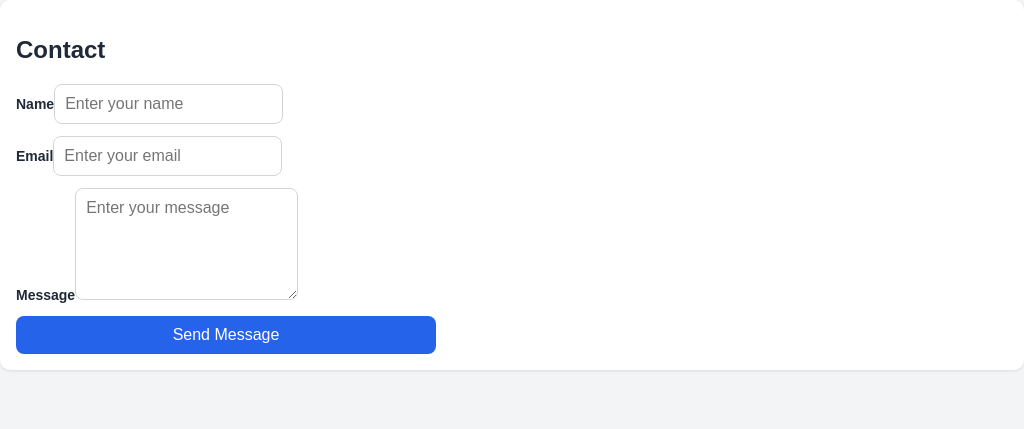
Scenario: renders contact page and submits form
In the field labelled "Name": x=169, y=104 x1=54 y1=84 x2=283 y2=124, type "User"
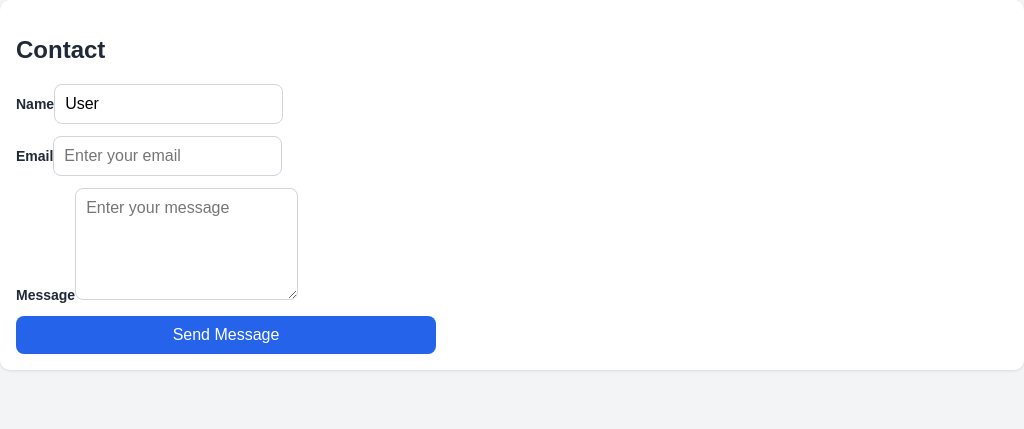
In the field labelled "Email": x=168, y=156 x1=53 y1=136 x2=282 y2=176, type "user@example.com"
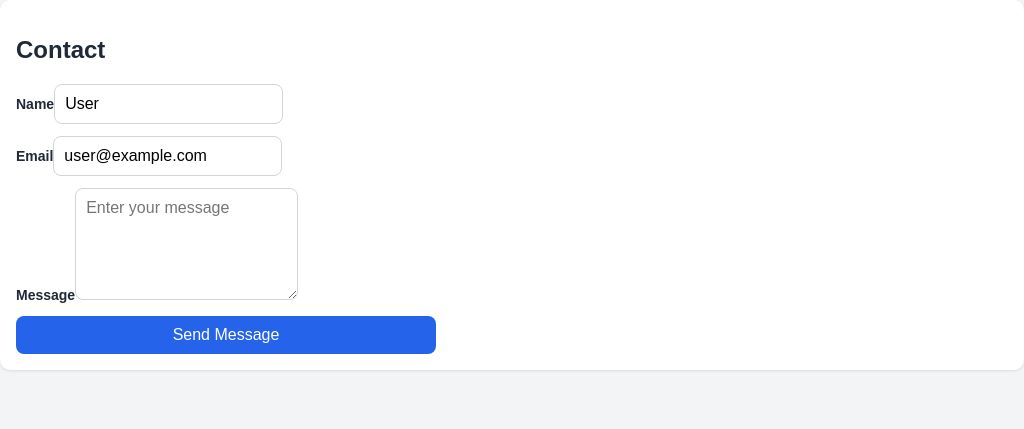
In the text box labelled "Message": x=187, y=244 x1=75 y1=188 x2=298 y2=300, type "Hello"
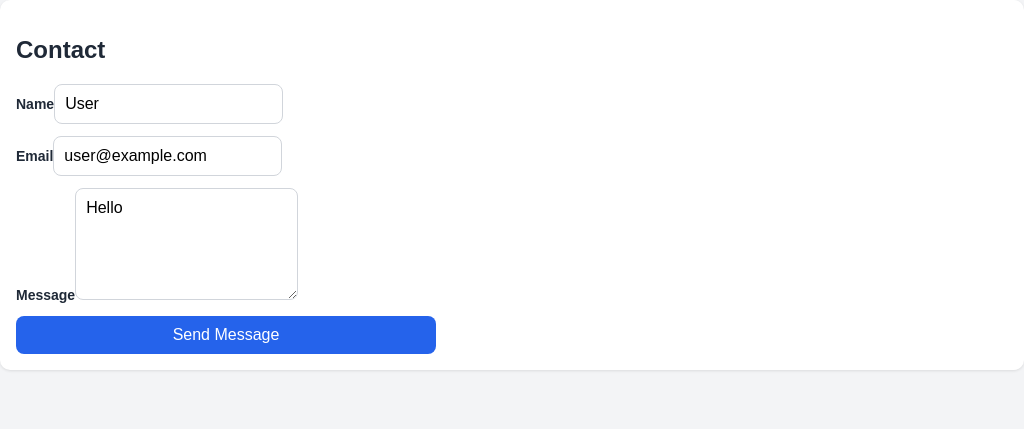
Click the button "Send Message": x=226, y=335 x1=16 y1=316 x2=436 y2=354
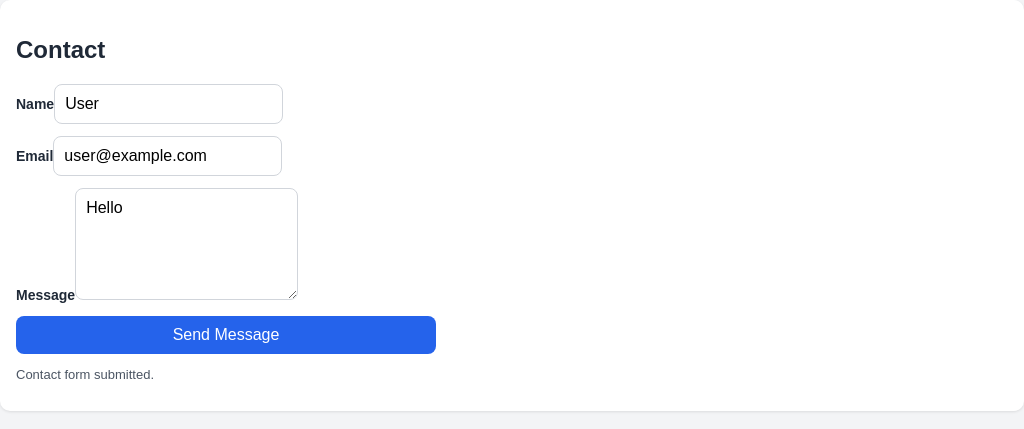
Expected: the text "Contact form submitted." is shown, x1=16 y1=367 x2=154 y2=382
